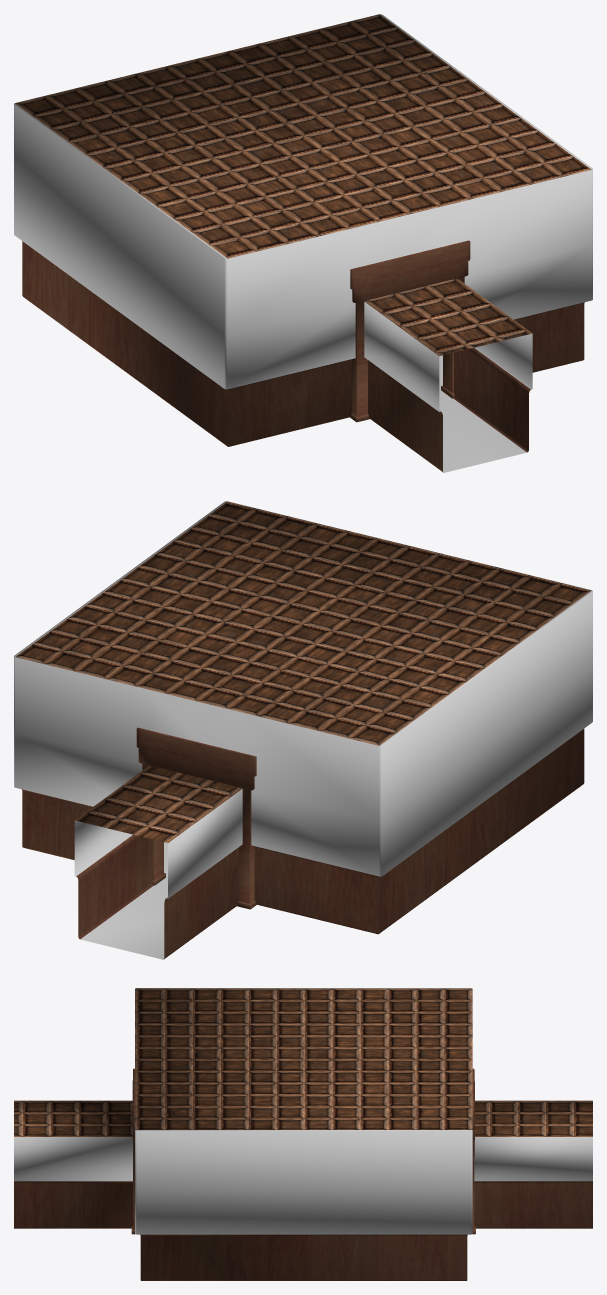
Rendered from MuseumRoom.fbx.
3 renders of one model, top to bottom at view 1: azimuth 30°, elevation 25°; view 2: azimuth 150°, elevation 25°; view 3: azimuth 270°, elevation 25°, orthographic. The views are drawn at different scales.
Parts seen in each view (by area): view 1: Plane, Doorway; view 2: Plane, Doorway; view 3: Plane, Doorway.
Boxes of the visible parts, x1,y1,x2,y2 form: Plane: (14, 14, 592, 472); Doorway: (350, 240, 470, 422); Plane: (14, 501, 592, 959); Doorway: (136, 727, 256, 909); Plane: (14, 988, 592, 1280); Doorway: (131, 1068, 475, 1234).
Bounding box in the file's own units: 800 × 401 × 1371.
